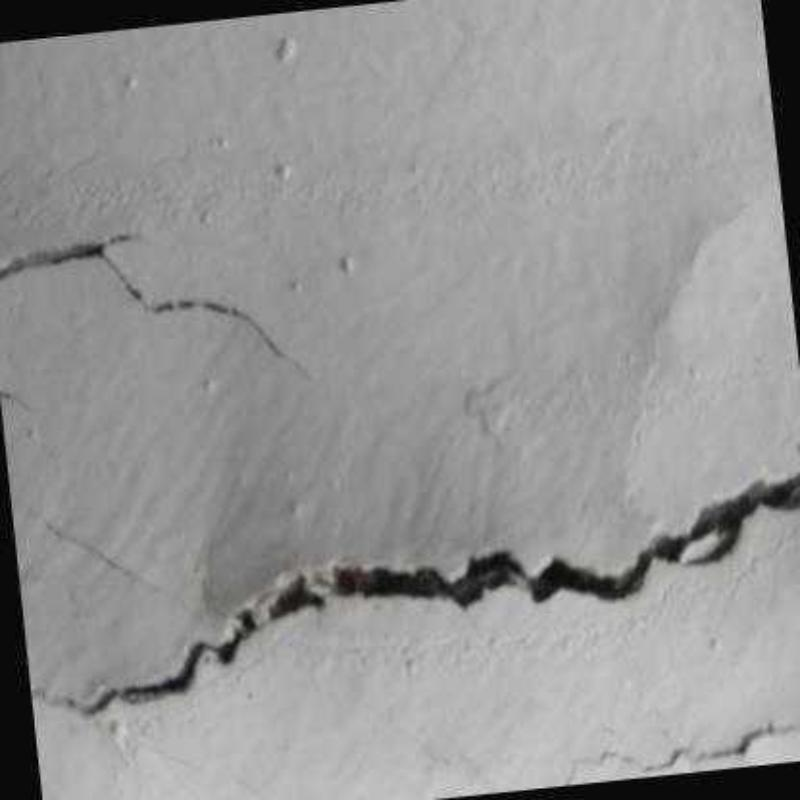crack: (80, 468, 798, 721), (0, 233, 312, 379), (600, 725, 798, 771)
